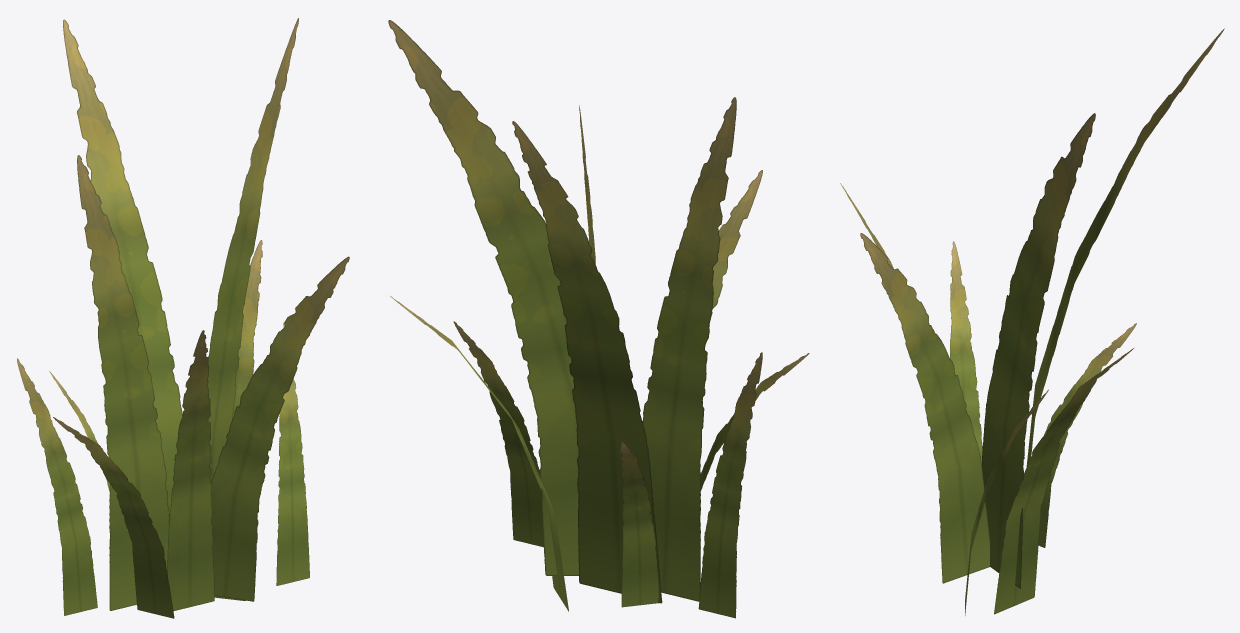
Rendered from weeds_01.fbx.
3 views of the same model, side by side, from view 1: azimuth 30°, elevation 25°; view 2: azimuth 150°, elevation 25°; view 3: azimuth 270°, elevation 25° (orthographic). The views are drawn at different scales.
Parts seen in each view (by area): view 1: Weeds_01; view 2: Weeds_01; view 3: Weeds_01.
Boxes of the visible parts, x1,y1,x2,y2 form: Weeds_01: [17, 18, 349, 618]; Weeds_01: [388, 20, 809, 618]; Weeds_01: [840, 28, 1224, 615].
Size of the model in its own units: 34.18 by 54.19 by 33.96.
